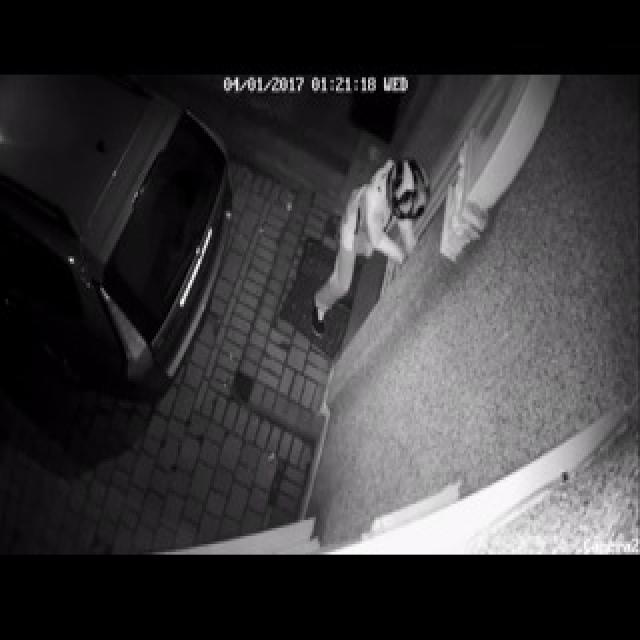thief: (340, 135, 436, 293)
